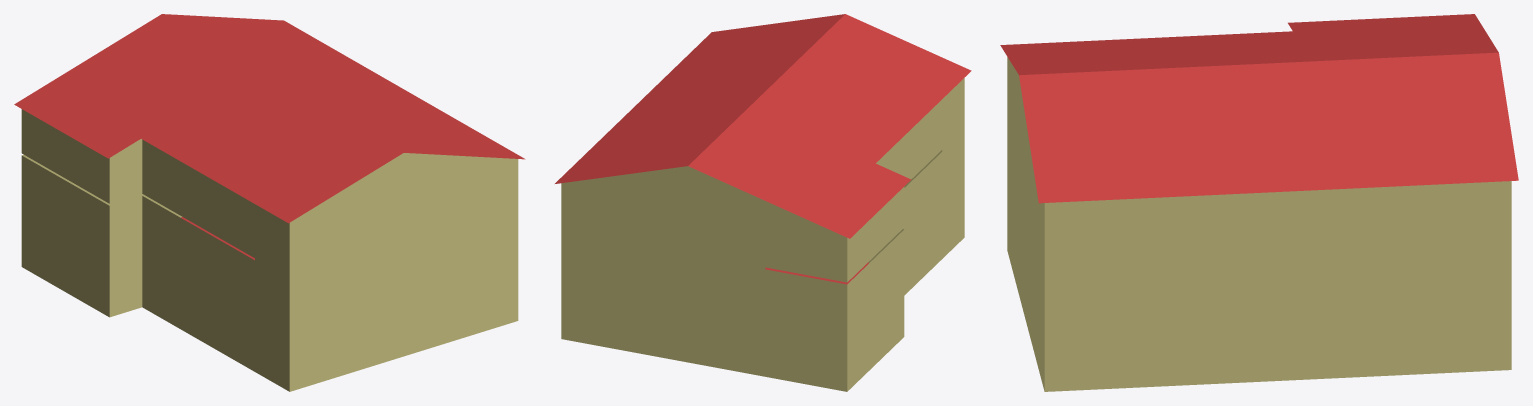
The picture shows the model from 3 angles, left to right: view 1: azimuth 30°, elevation 25°; view 2: azimuth 150°, elevation 25°; view 3: azimuth 270°, elevation 25°; orthographic projection. The views are drawn at different scales.
Size of the model in its own units: 17.05 by 19.74 by 10.26.
